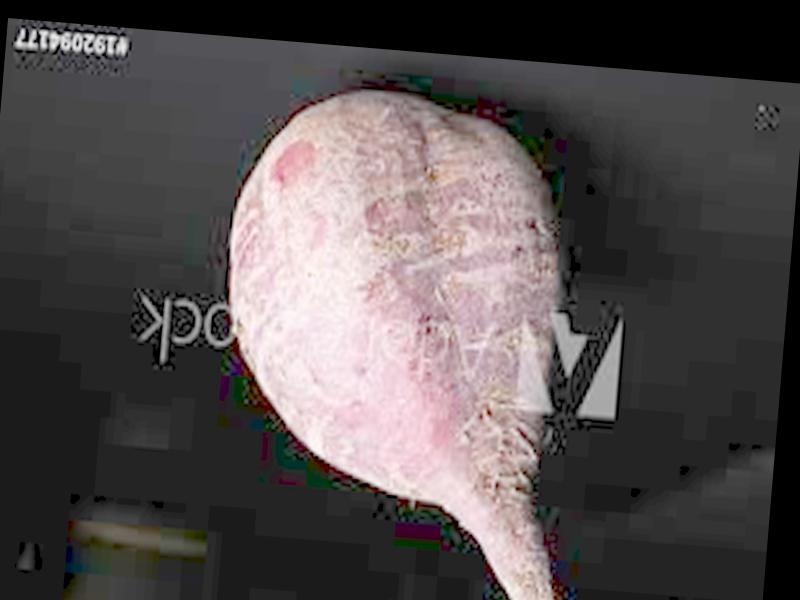Beet: (198, 86, 597, 600)
